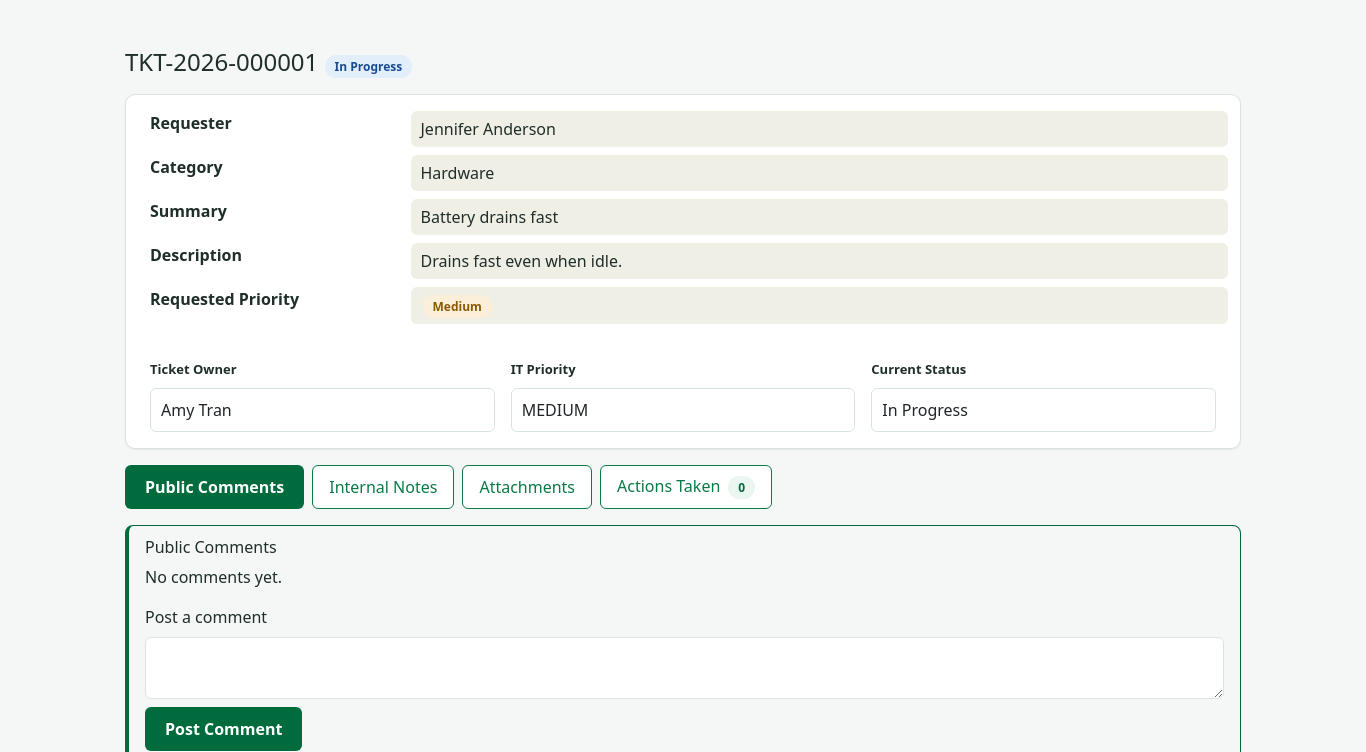
Test: Ticket workflow feedback (UI-02) › Resolved with no Actions shows the gate callout and the select reverts
This screenshot has width=1366, height=752.
Expected: the heading "TKT-2026-000001 In Progress" is shown, top-left (125, 45), bottom-right (412, 78)
Select "Resolved" in the dropdown labelled "Current Status" at (1044, 410), box top-left (871, 388), bottom-right (1216, 432)
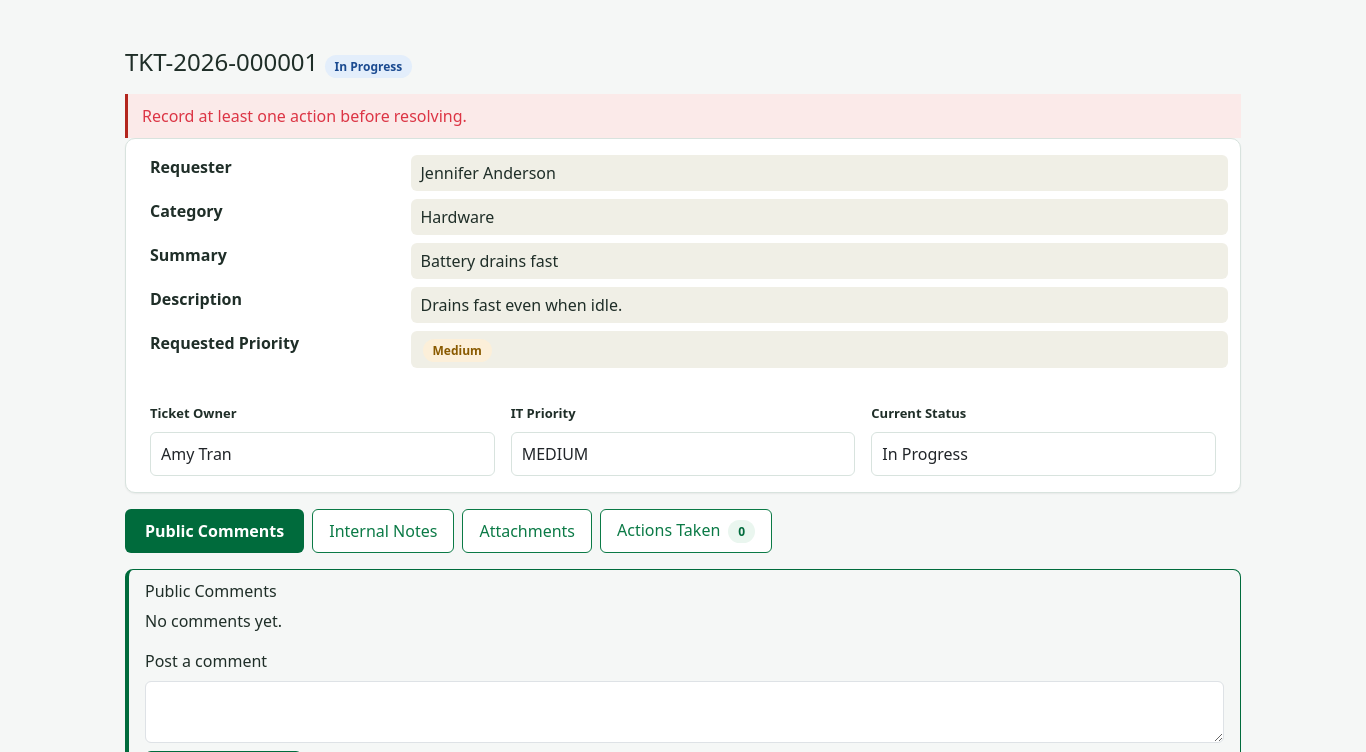
Expected: the text with test id "status-badge" reads "In Progress", top-left (335, 58), bottom-right (402, 75)
Now the text "Record at least one action before resolving." is shown, box top-left (142, 105), bottom-right (467, 127)
